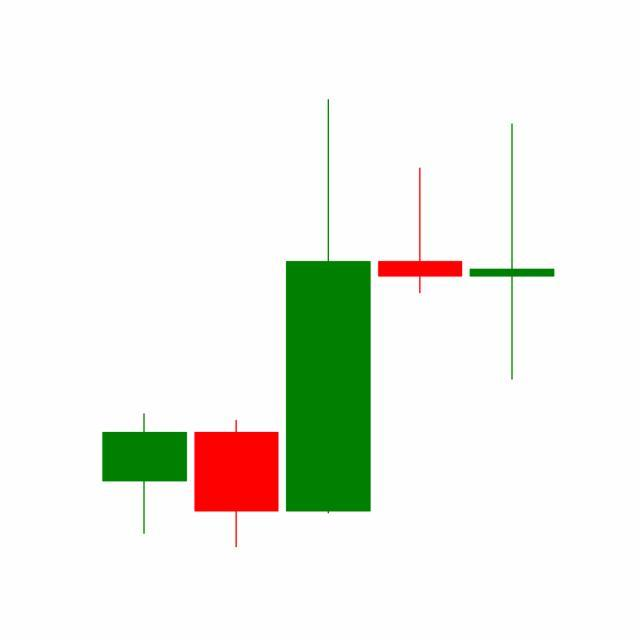Spinning Top: (466, 121, 559, 384)
